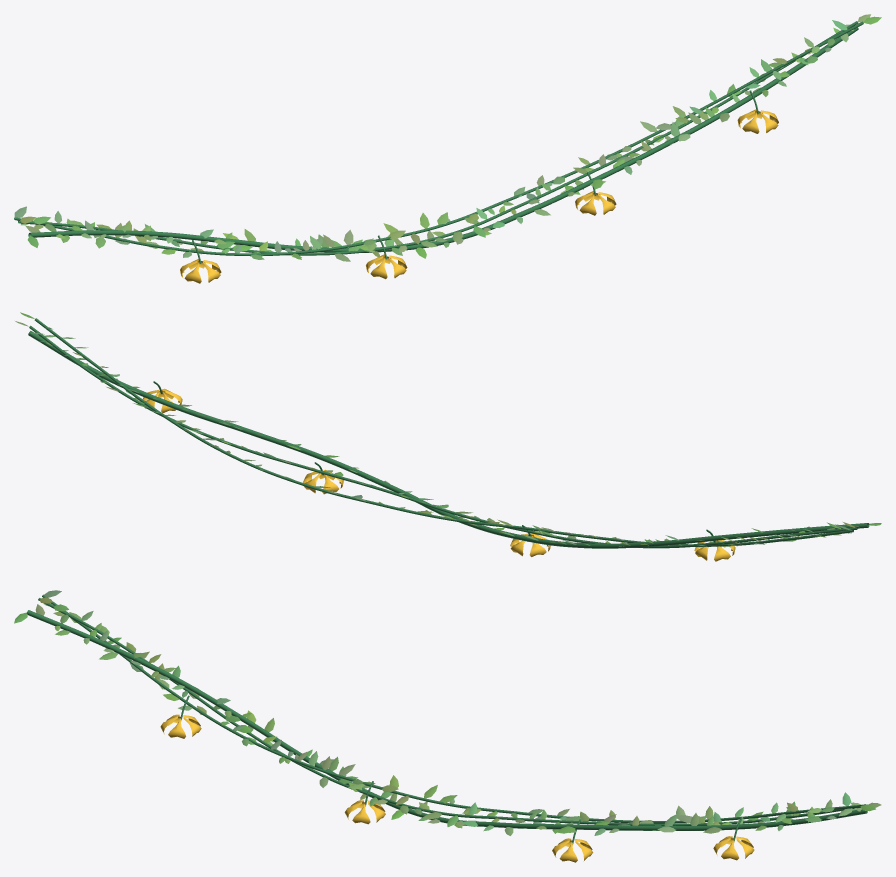
File: canopy-vine-crafted.glb
3 renders of one model, top to bottom at view 1: azimuth 30°, elevation 25°; view 2: azimuth 150°, elevation 25°; view 3: azimuth 330°, elevation 25°, orthographic.
Visible parts, largest first — view 1: Canopy curling leaves, Suspended flowering vine, Suspended flowering vine.002, Suspended flowering vine.001, Golden bell flower, Golden bell flower.002, Golden bell flower.003, Golden bell flower.001; view 2: Suspended flowering vine, Suspended flowering vine.002, Canopy curling leaves, Suspended flowering vine.001; view 3: Canopy curling leaves, Suspended flowering vine, Suspended flowering vine.002, Suspended flowering vine.001, Golden bell flower.003, Golden bell flower, Golden bell flower.002.
Boxes of the visible parts, x1,y1,x2,y2 form: Canopy curling leaves: [14, 14, 881, 261]; Suspended flowering vine: [28, 27, 858, 253]; Suspended flowering vine.002: [14, 21, 863, 256]; Suspended flowering vine.001: [18, 21, 858, 255]; Golden bell flower: [180, 259, 221, 283]; Golden bell flower.002: [575, 191, 616, 215]; Golden bell flower.003: [737, 109, 778, 133]; Golden bell flower.001: [366, 254, 407, 279]; Suspended flowering vine: [28, 331, 869, 548]; Suspended flowering vine.002: [34, 318, 853, 546]; Canopy curling leaves: [15, 312, 881, 547]; Suspended flowering vine.001: [29, 325, 857, 548]; Canopy curling leaves: [14, 590, 881, 835]; Suspended flowering vine: [26, 610, 867, 830]; Suspended flowering vine.002: [42, 594, 860, 823]; Suspended flowering vine.001: [38, 598, 865, 825]; Golden bell flower.003: [713, 836, 754, 860]; Golden bell flower: [160, 714, 201, 738]; Golden bell flower.002: [552, 838, 593, 862].
Bounding box in the file's own units: 37 × 5.21 × 3.1.
